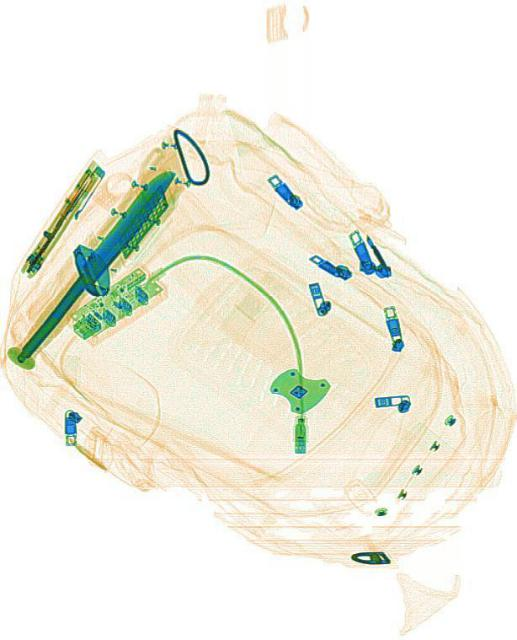Knife: (0, 150, 188, 374)
